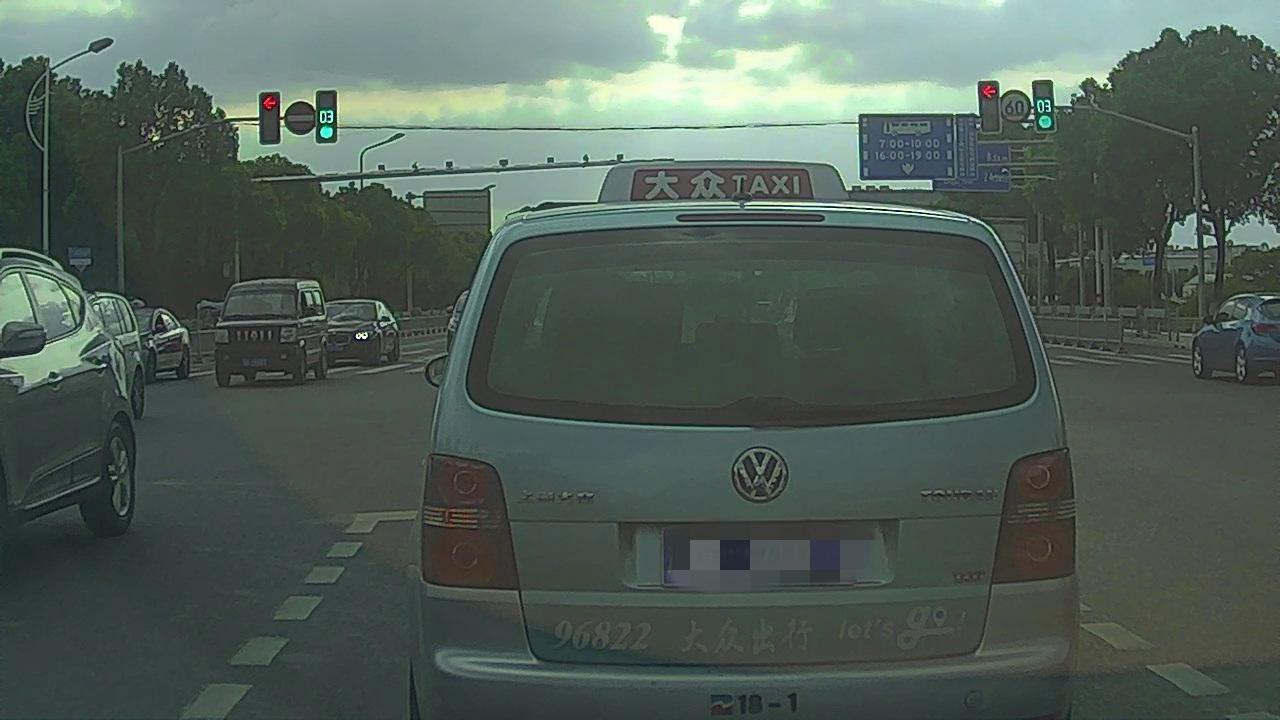traffic_light: (978, 81, 1000, 133), (258, 93, 278, 146), (1033, 83, 1055, 131), (318, 90, 336, 143)
